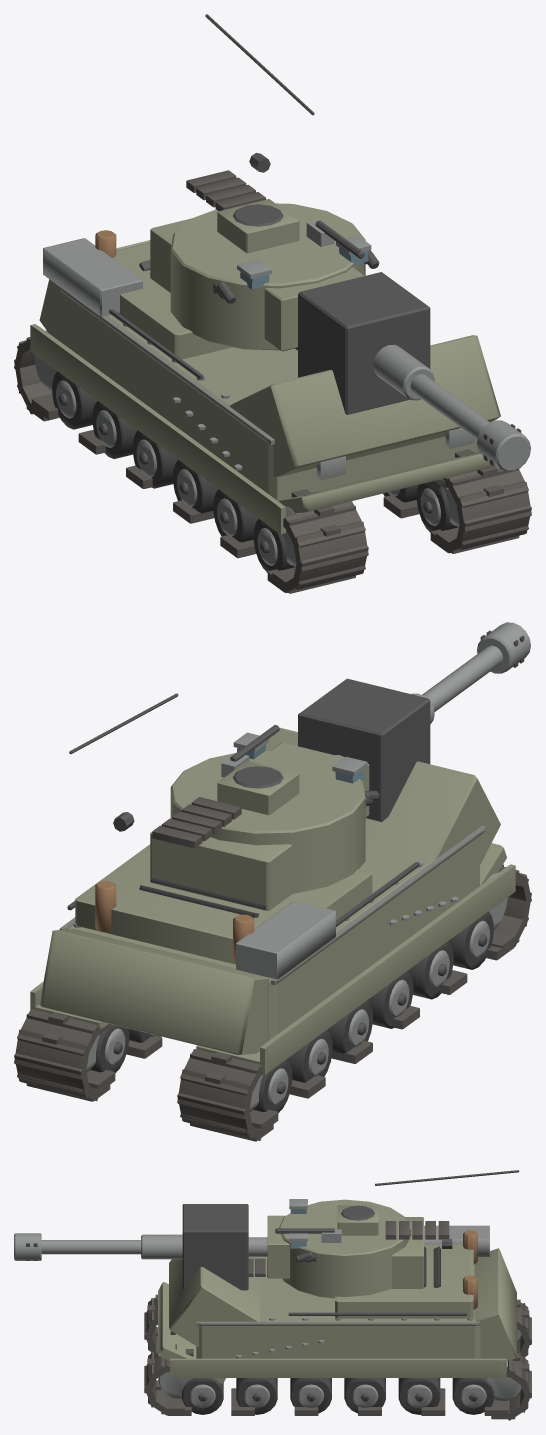
The model's file is sarych.glb.
The picture shows the model from 3 angles, top to bottom: view 1: azimuth 30°, elevation 25°; view 2: azimuth 150°, elevation 25°; view 3: azimuth 270°, elevation 25°; orthographic projection. The views are drawn at different scales.
Parts seen in each view (by area): view 1: Hull, Turret, Barrel; view 2: Hull, Turret, Barrel; view 3: Hull, Turret, Barrel.
Boxes of the visible parts, x1,y1,x2,y2 form: Hull: [14, 230, 531, 593]; Turret: [150, 14, 379, 351]; Barrel: [298, 272, 530, 471]; Hull: [14, 727, 531, 1141]; Turret: [69, 693, 379, 910]; Barrel: [298, 622, 530, 821]; Hull: [144, 1225, 531, 1420]; Turret: [267, 1170, 519, 1298]; Barrel: [14, 1204, 267, 1290].
Bounding box in the file's own units: 2.76 × 3.93 × 7.84.
